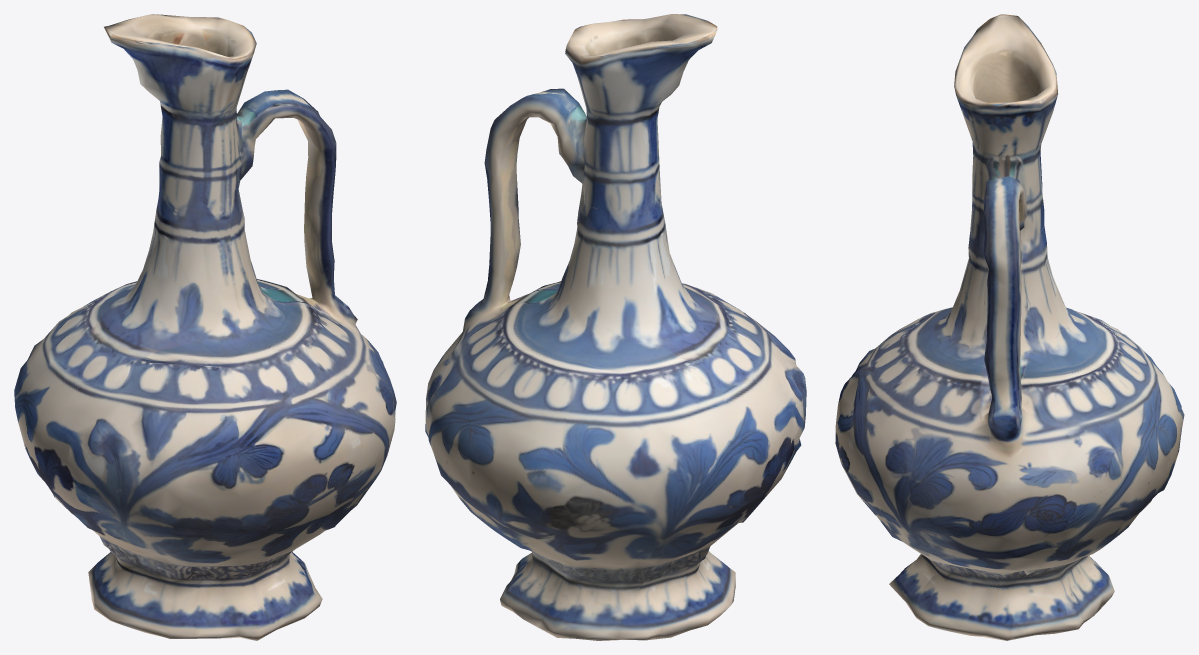
Rendered from Cerulean_Flora_Ewer_0414170008_texture.glb.
The picture shows the model from 3 angles, left to right: view 1: azimuth 30°, elevation 25°; view 2: azimuth 150°, elevation 25°; view 3: azimuth 270°, elevation 25°; orthographic projection. The views are drawn at different scales.
Size of the model in its own units: 1.16 by 2 by 1.17.
Materials: 1 (1 with a texture image).
